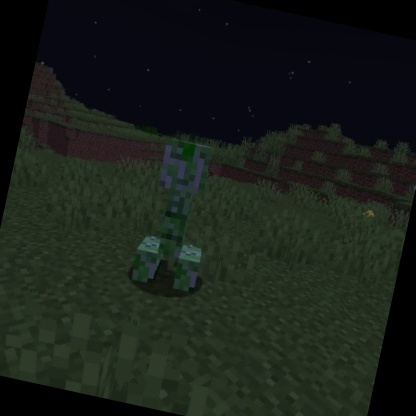creeper: (124, 131, 231, 299)
